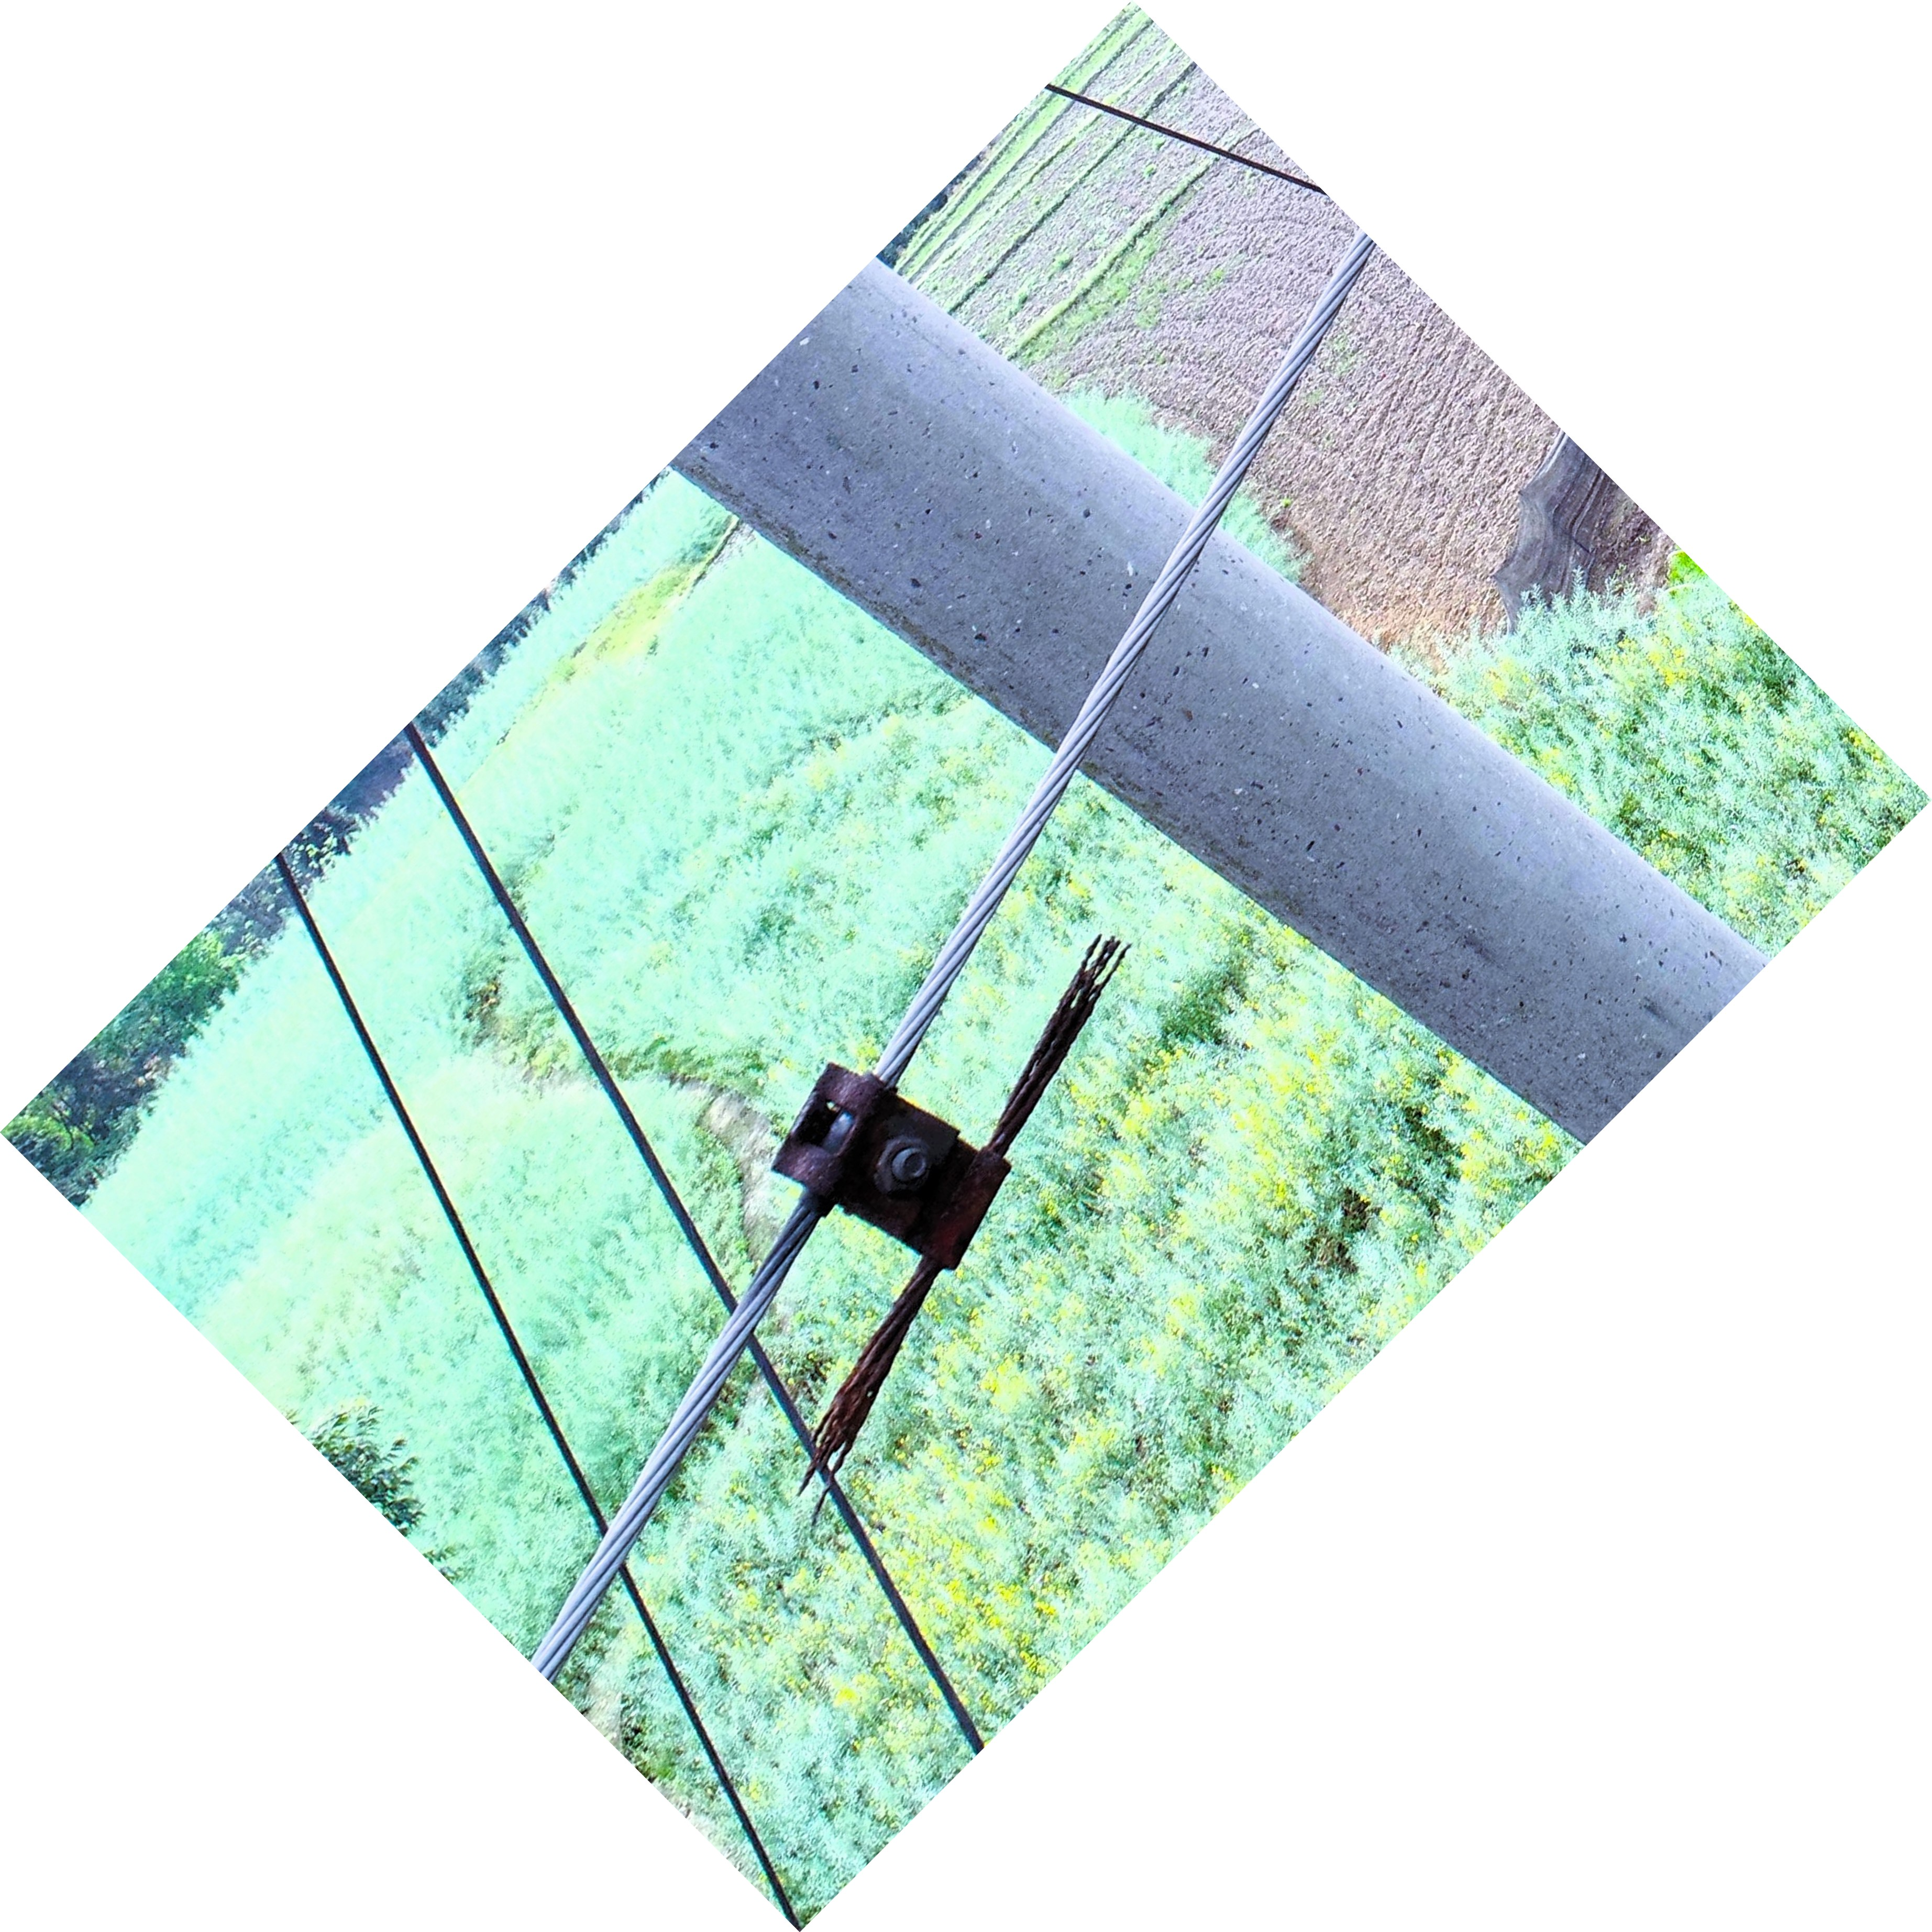Damage of shockproof hammer: (718, 892, 1177, 1502)
